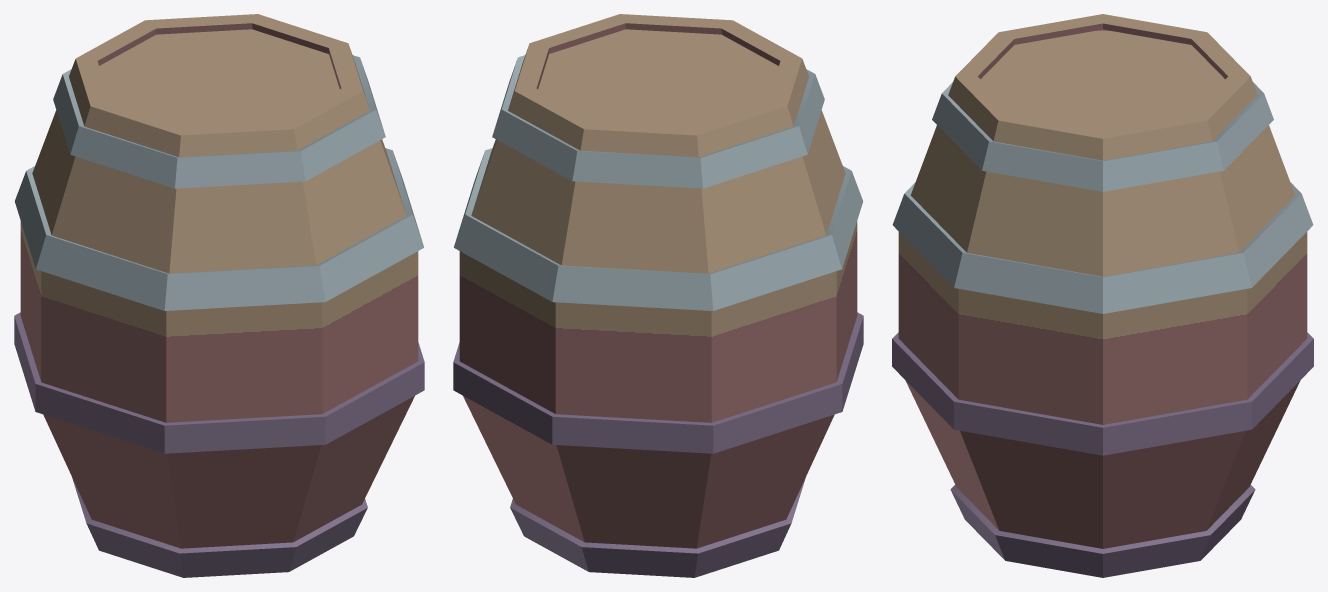
The model's file is tonneau_01.fbx.
3 views of the same model, side by side, from view 1: azimuth 30°, elevation 25°; view 2: azimuth 150°, elevation 25°; view 3: azimuth 270°, elevation 25° (orthographic).
Visible parts, largest first — view 1: tonneau_01; view 2: tonneau_01; view 3: tonneau_01.
Boxes of the visible parts, x1,y1,x2,y2 form: tonneau_01: (14,14,424,577); tonneau_01: (453,14,863,577); tonneau_01: (892,14,1313,577).
Size of the model in its own units: 1.17 by 1.36 by 1.17.
Materials: 1 (1 with a texture image).
